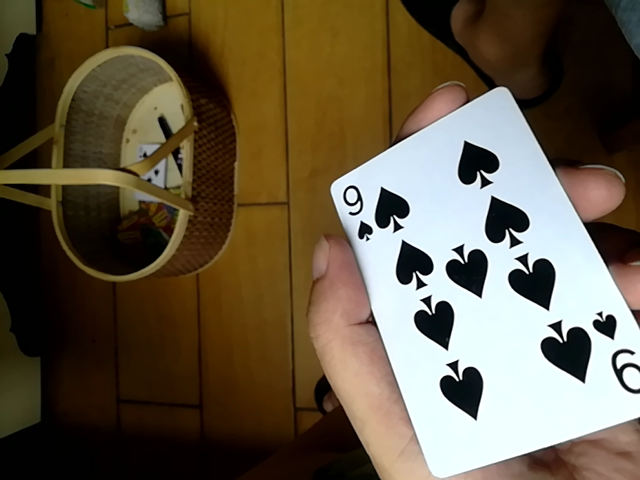ht 9: (323, 87, 640, 475)
